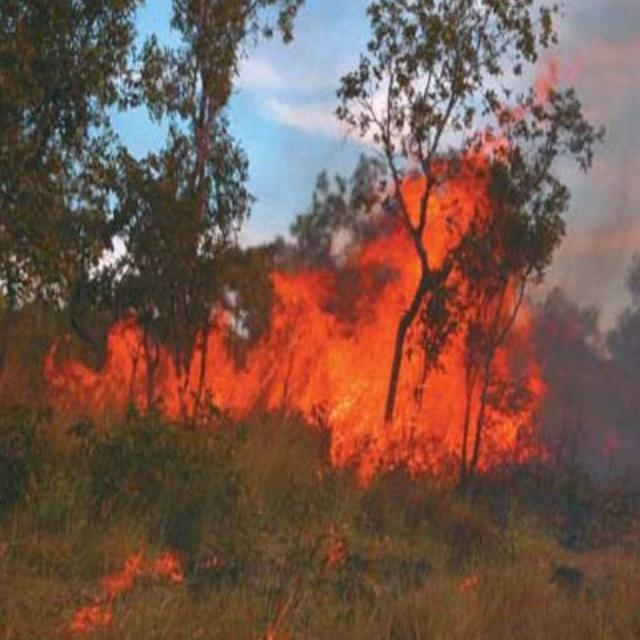Fire: (43, 121, 538, 474), (72, 553, 186, 631)
